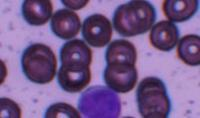L: (78, 84, 123, 117)
